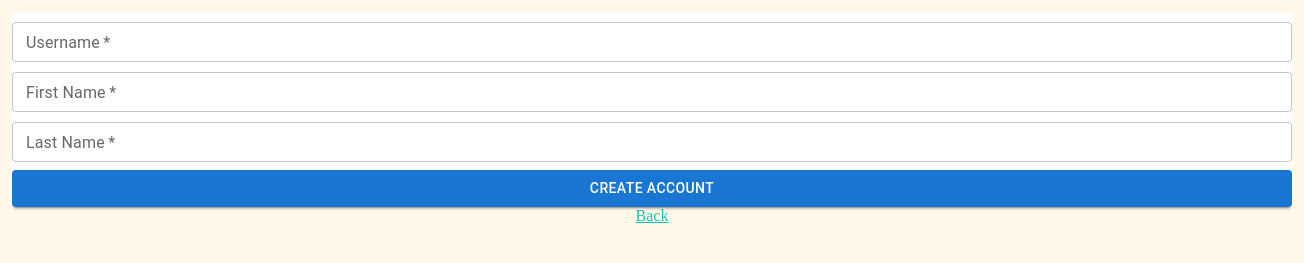
Test: RegisterFormPt2 › shows name is invalid
Type "validUsername" into the field labelled "Username *" at (652, 42), box [12,22,1292,62]
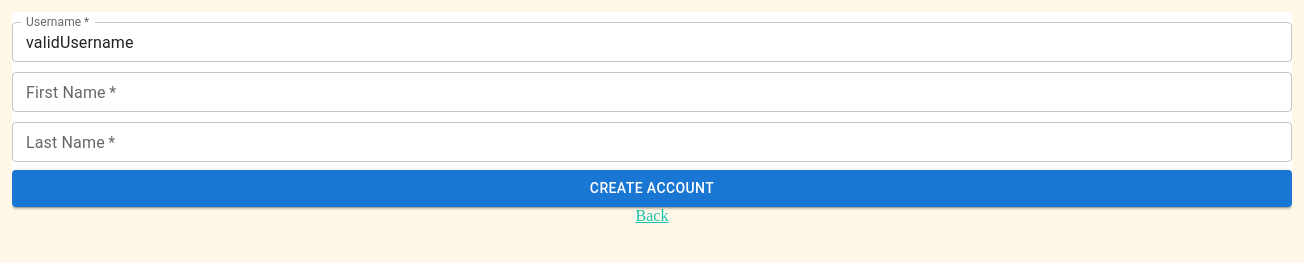
Type "sdf344r" into the field labelled "First Name *" at (652, 92), box [12,72,1292,112]
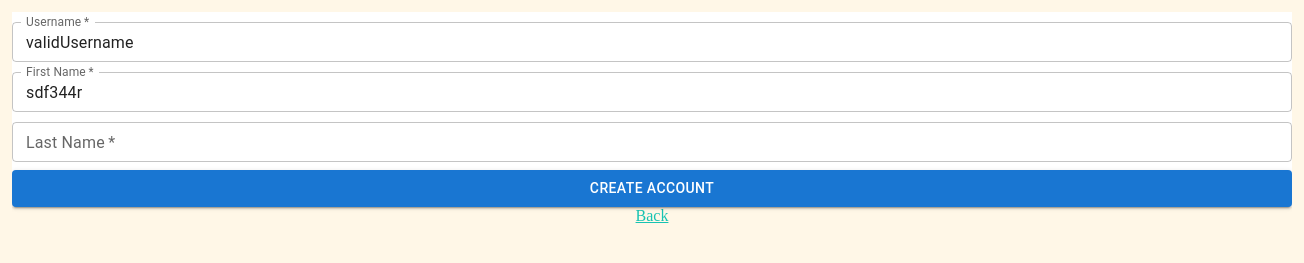
Type "Doe" into the field labelled "Last Name *" at (652, 142), box [12,122,1292,162]
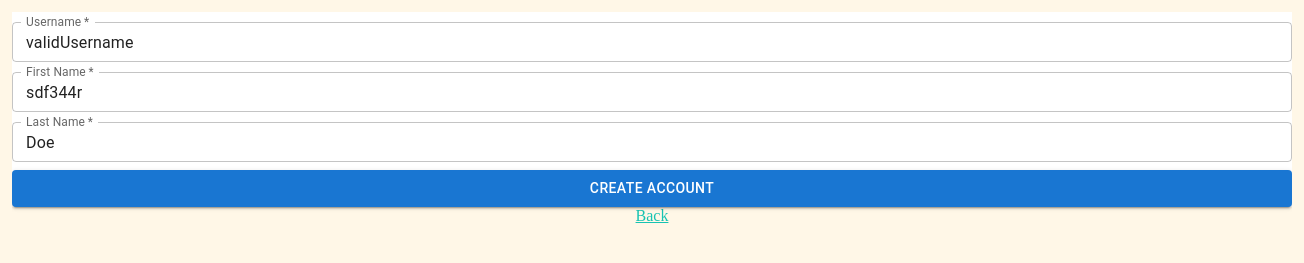
Click the button "Create Account" at (652, 188), box [12,170,1292,206]
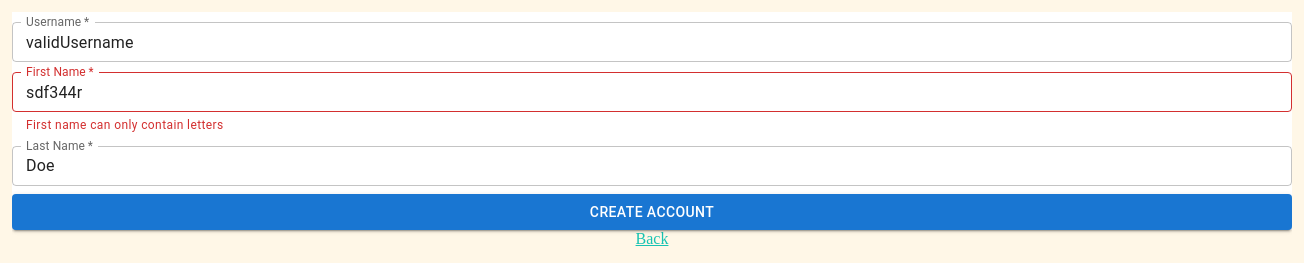
Expected: the text "First name can only contain letters" is shown, [26,118,224,132]
